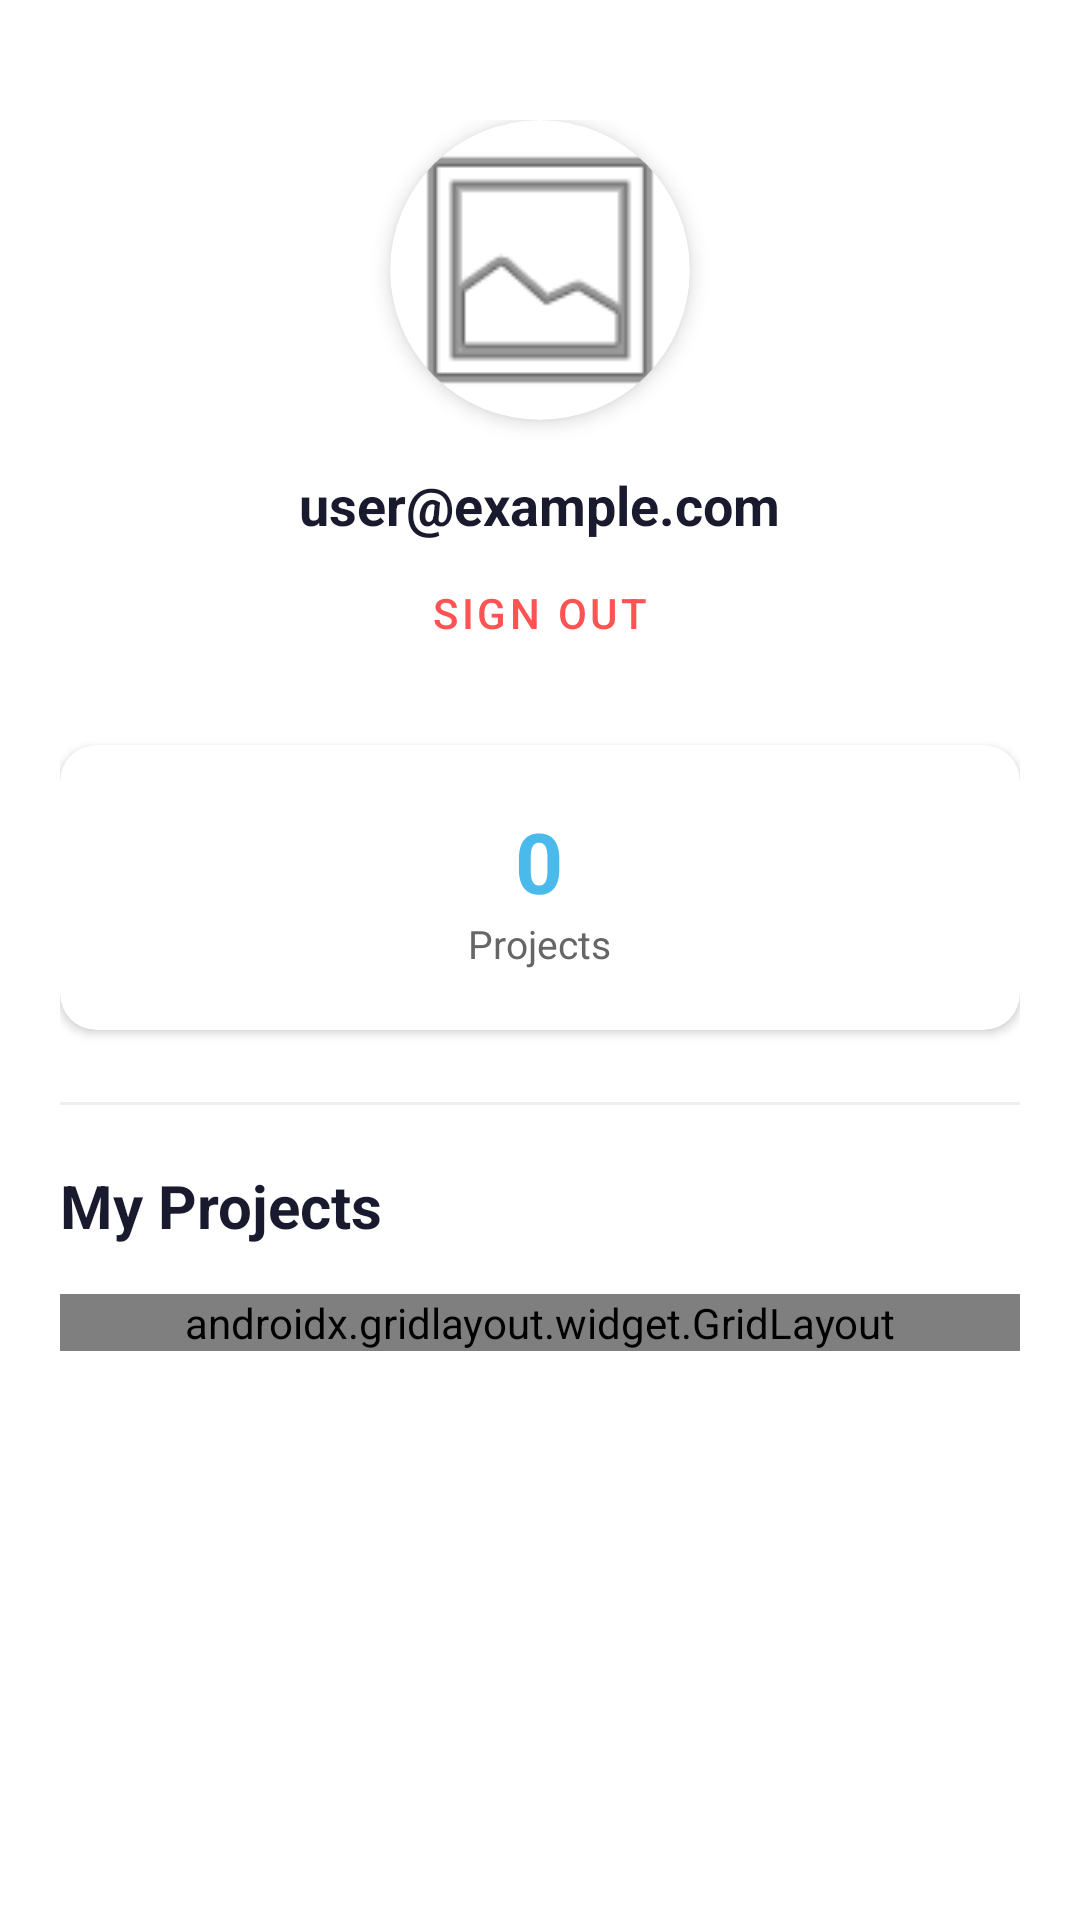

Icons on this 1080*1920 Android screen, each with the point to tap as (x=x, y=y):
gallery: (x=540, y=288)
